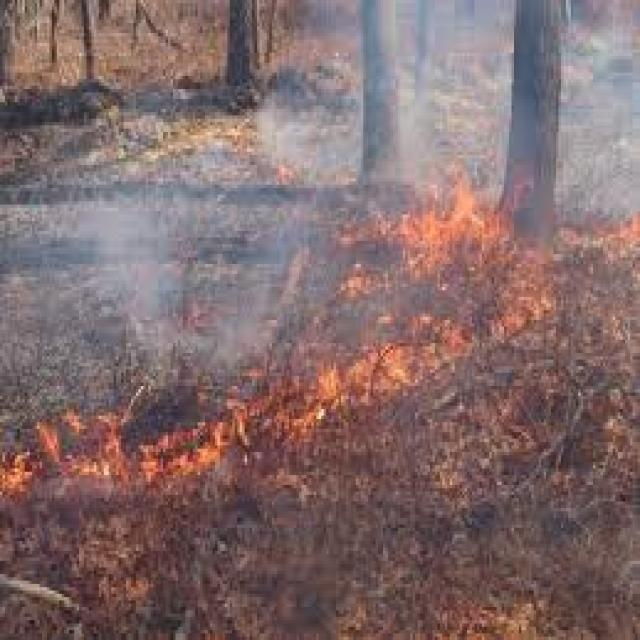Fire: (1, 354, 334, 512), (354, 181, 542, 366), (308, 313, 492, 433)
Smoke: (73, 182, 302, 396), (412, 0, 500, 189), (576, 0, 630, 220)
